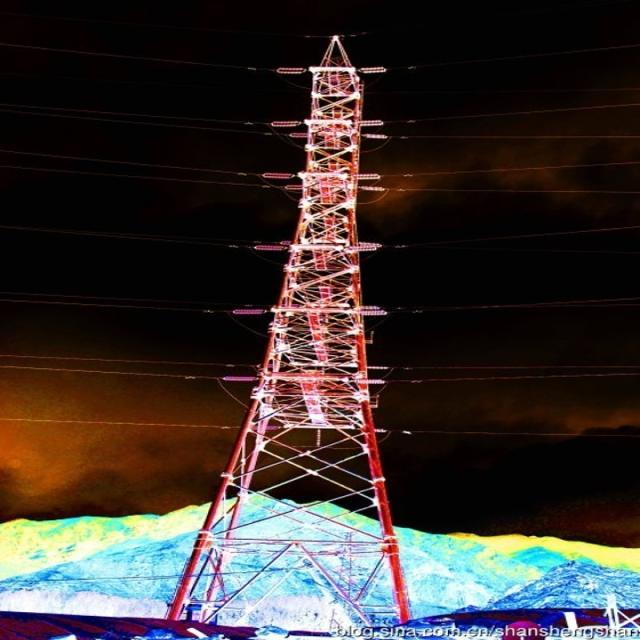non-critical vegetation: (185, 40, 421, 588)
